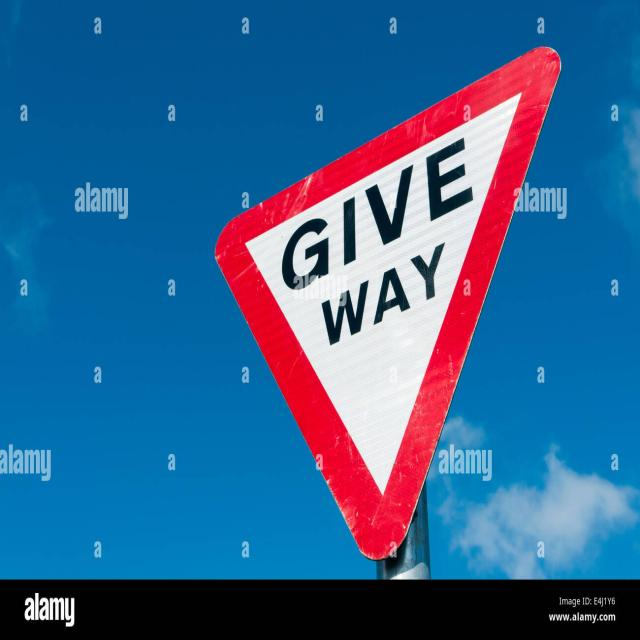GIVE_WAY: (217, 44, 564, 560)
